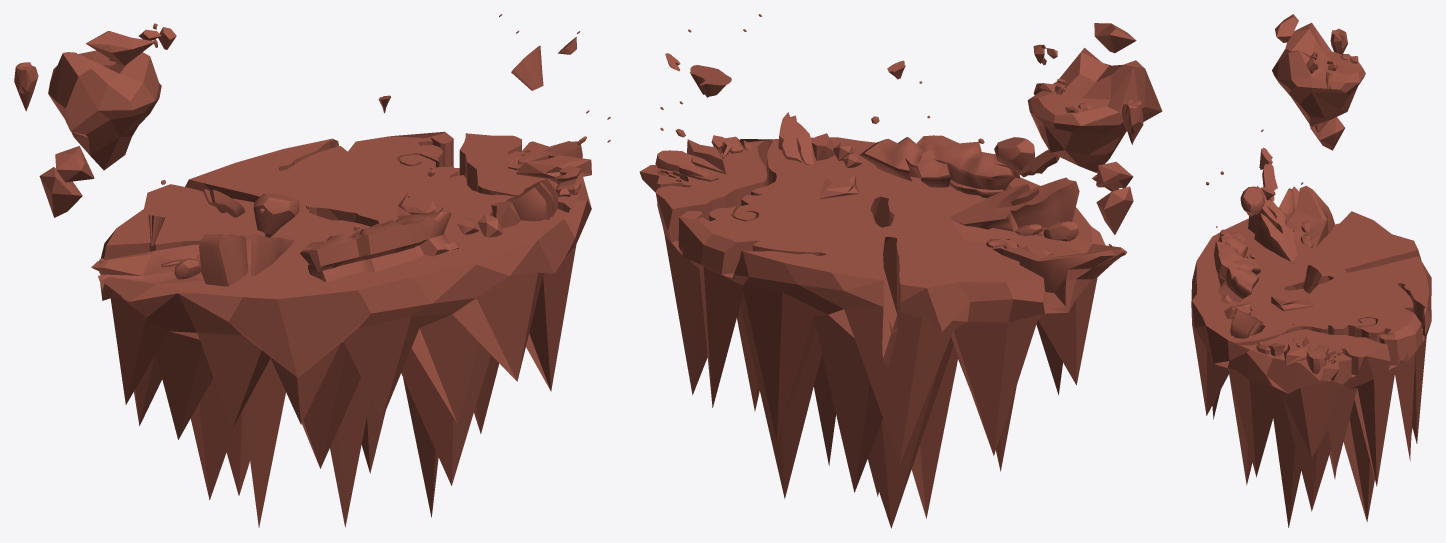
The model's file is iwa.fbx.
3 views of the same model, side by side, from view 1: azimuth 30°, elevation 25°; view 2: azimuth 150°, elevation 25°; view 3: azimuth 270°, elevation 25° (orthographic). The views are drawn at different scales.
Parts seen in each view (by area): view 1: pPlatonic6; view 2: pPlatonic6; view 3: pPlatonic6.
Boxes of the visible parts, x1,y1,x2,y2 form: pPlatonic6: (14, 14, 610, 527); pPlatonic6: (639, 14, 1162, 528); pPlatonic6: (1191, 14, 1431, 527).
Bounding box in the file's own units: 298 × 288 × 155.
